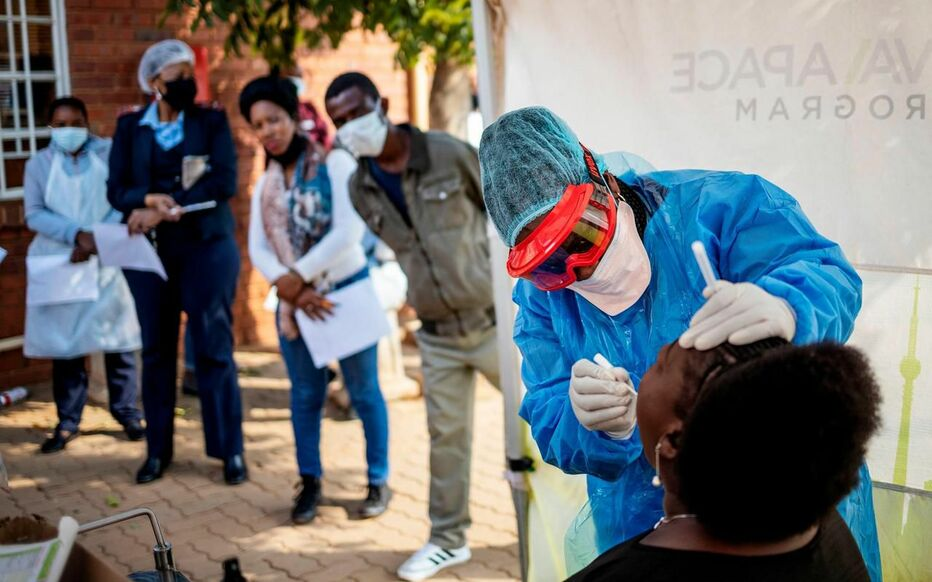with_mask: (518, 192, 644, 316), (336, 100, 388, 140), (157, 64, 194, 112), (53, 110, 86, 153)
without_mask: (257, 104, 286, 150)
